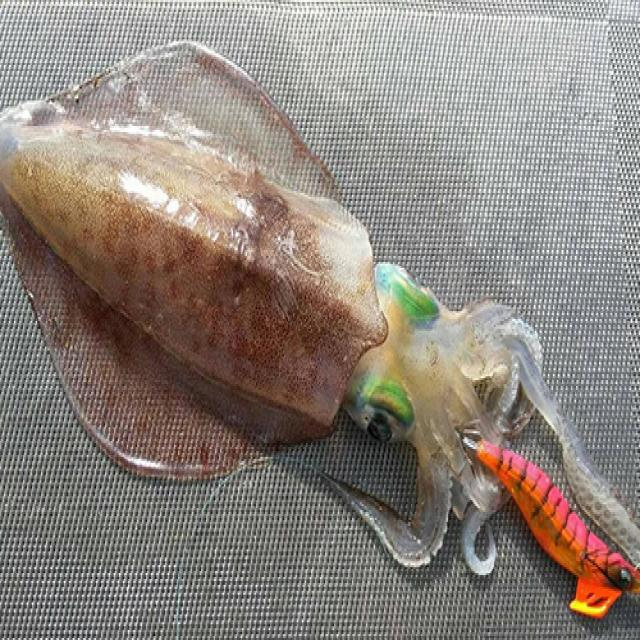SQUID: (0, 20, 543, 614)
